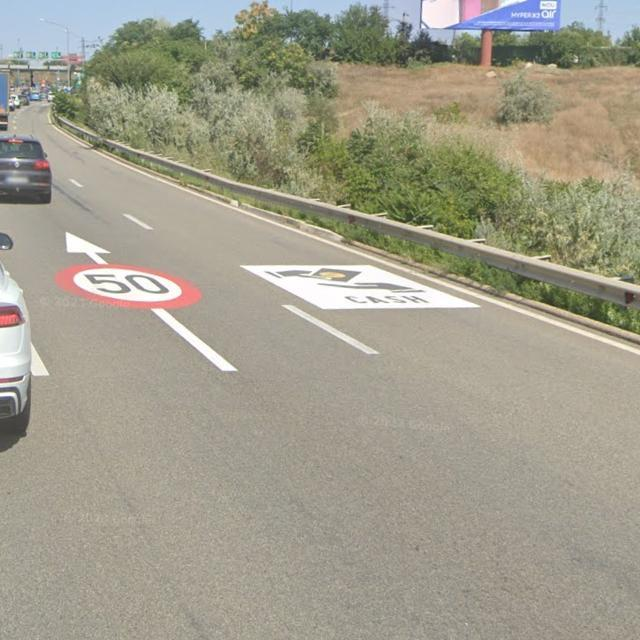forb_speed_over_50: (54, 263, 201, 309)
